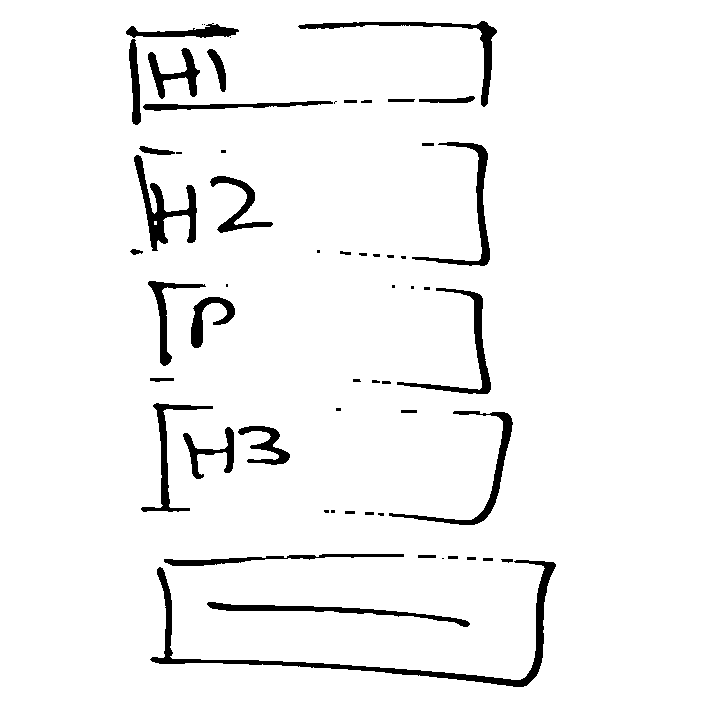button: (156, 546, 561, 691)
heading1: (123, 19, 505, 115)
heading2: (126, 135, 498, 272)
heading3: (152, 396, 513, 531)
paragraph: (148, 275, 496, 401)
